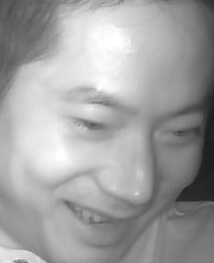eye: (71, 113, 118, 142), (166, 123, 202, 146)
mouth: (61, 196, 143, 246)
